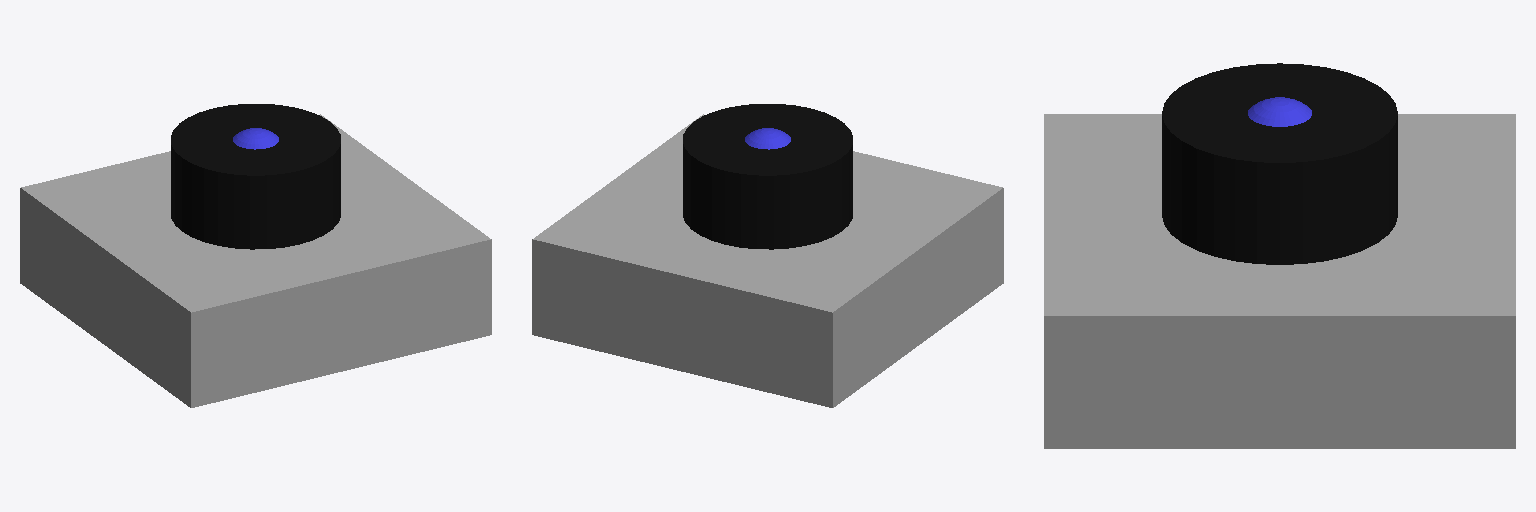
robot.urdf — evolved_robot:
<?xml version="1.0"?>
<robot name="evolved_robot">
  <material name="metal">
    <color rgba="0.7 0.7 0.7 1.0"/>
  </material>
  <material name="plastic">
    <color rgba="0.3 0.3 0.9 1.0"/>
  </material>
  <material name="rubber">
    <color rgba="0.1 0.1 0.1 1.0"/>
  </material>
  <material name="red">
    <color rgba="1.0 0.0 0.0 1.0"/>
  </material>
  <material name="wheel_material">
    <color rgba="0.2 0.2 0.2 1.0"/>
  </material>
  <link name="base_link">
    <visual>
      <geometry><box size="0.30694219765450376 0.30203459907369534 0.09359906449021912"/></geometry>
      <material name="metal"/>
    </visual>
    <collision>
      <geometry><box size="0.30694219765450376 0.30203459907369534 0.09359906449021912"/></geometry>
    </collision>
    <inertial>
      <mass value="5.0"/>
      <inertia ixx="0.08332140325921007" ixy="0" ixz="0" 
               iyy="0.08581191464535054" iyz="0" 
               izz="0.15453200978215362"/>
    </inertial>
  </link>
  <link name="link1">
    <visual>
      <geometry><cylinder radius="0.07570620283655916" length="0.14422838366837537"/></geometry>
      <material name="rubber"/>
    </visual>
    <collision>
      <geometry><cylinder radius="0.07570620283655916" length="0.14422838366837537"/></geometry>
    </collision>
    <inertial>
      <mass value="0.5"/>
      <inertia ixx="0.003166342841615233" ixy="0" ixz="0" 
               iyy="0.003166342841615233" iyz="0" 
               izz="0.0028657145739651186"/>
    </inertial>
  </link>
  <joint name="joint1" type="fixed">
    <parent link="base_link"/>
    <child link="link1"/>
    <origin xyz="0 0 0.04679953224510956" rpy="0 0 0"/>
    <axis xyz="-0.0067937694288004455 0.8570903370472414 -0.5151213437989097"/>
    <dynamics damping="0.8994036855669686" friction="0.1"/>
  </joint>
  <link name="link2">
    <visual>
      <geometry>
        <cylinder radius="0.05414362154083399" length="0.04821138832144219"/>
      </geometry>
      <material name="wheel_material"/>
    </visual>
    <collision>
      <geometry>
        <cylinder radius="0.05414362154083399" length="0.04821138832144219"/>
      </geometry>
    </collision>
    <inertial>
      <mass value="1.0"/>
      <inertia ixx="0.0009265777687126733" ixy="0" ixz="0" 
               iyy="0.0009265777687126733" iyz="0" 
               izz="0.0014657658767785312"/>
    </inertial>
  </link>
  <joint name="joint2" type="continuous">
    <parent link="base_link"/>
    <child link="link2"/>
    <origin xyz="0 0 0" rpy="1.5708 0 0"/>
    <axis xyz="0 0 1"/>
    <dynamics damping="0.22772052215840985" friction="0.1"/>
  </joint>
  <link name="link3">
    <visual>
      <geometry><sphere radius="0.030409239613041976"/></geometry>
      <material name="plastic"/>
    </visual>
    <collision>
      <geometry><sphere radius="0.030409239613041976"/></geometry>
    </collision>
    <inertial>
      <mass value="0.5"/>
      <inertia ixx="0.00036988874153736056" ixy="0" ixz="0" 
               iyy="0.00036988874153736056" iyz="0" 
               izz="0.00036988874153736056"/>
    </inertial>
  </link>
  <joint name="joint3" type="fixed">
    <parent link="base_link"/>
    <child link="link3"/>
    <origin xyz="0 0 0.09679953224510957" rpy="0 0 0"/>
    <axis xyz="-0.9467403000623275 -0.265937407513569 -0.1815491655801703"/>
    <dynamics damping="0.8006336577116039" friction="0.1"/>
  </joint>
</robot>

--- What the picture shows (computed from the rendered views, not written in the file) ---
Views: 3 orthographic renders of the robot side by side, from view 1: azimuth 30°, elevation 25°; view 2: azimuth 150°, elevation 25°; view 3: azimuth 270°, elevation 25°.
Robot: evolved_robot — 4 links, 3 joints (1 continuous, 2 fixed); root link base_link; default pose: all joints at 0.
Links seen in each view (by area): view 1: base_link, link1, link3; view 2: base_link, link1, link3; view 3: base_link, link1, link3.
Link boxes in pixels (x1,y1,x2,y2): base_link: [20, 114, 491, 407]; link1: [171, 104, 340, 249]; link3: [233, 128, 278, 149]; base_link: [532, 114, 1003, 407]; link1: [683, 104, 852, 249]; link3: [745, 128, 790, 149]; base_link: [1044, 114, 1515, 448]; link1: [1162, 63, 1397, 264]; link3: [1248, 97, 1311, 126].
Bounding box of the posed robot: 0.3069 × 0.302 × 0.1814 m (x, y, z).
Geometry: primitives only (box / cylinder / sphere), no mesh files.